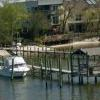Boat: (1, 45, 31, 81)
